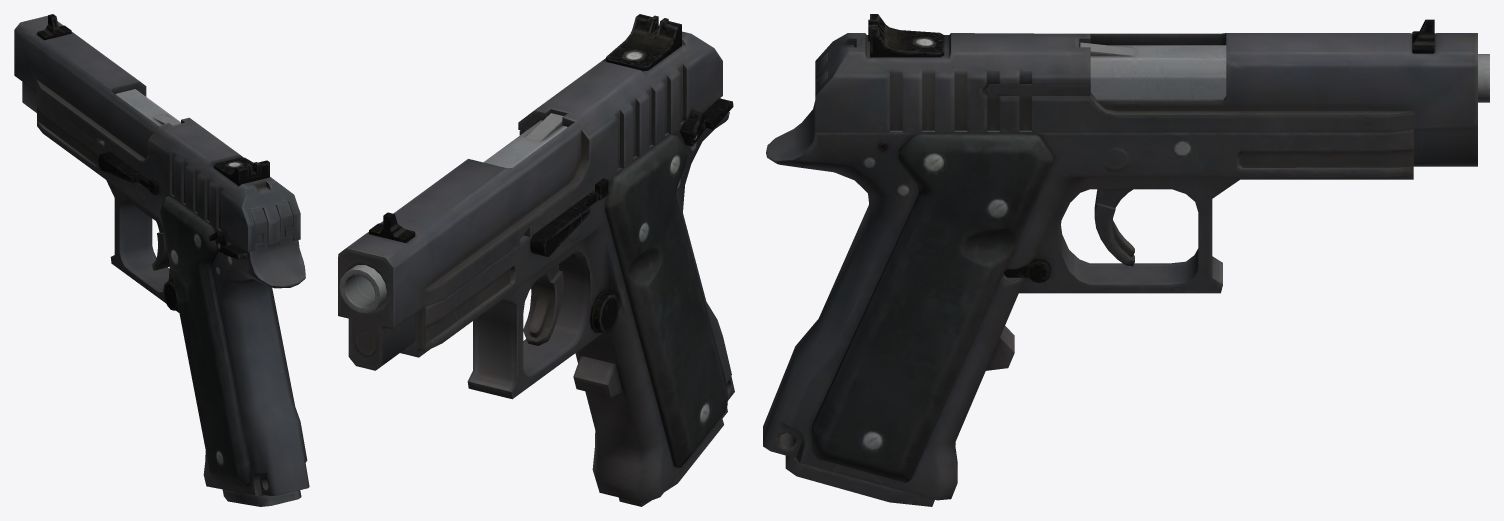
The picture shows the model from 3 angles, left to right: view 1: azimuth 30°, elevation 25°; view 2: azimuth 150°, elevation 25°; view 3: azimuth 270°, elevation 25°; orthographic projection. The views are drawn at different scales.
Visible parts, largest first — view 1: lower_pistol_0, slide_pistol_0, mag_pistol_0, trigger_pistol_0; view 2: lower_pistol_0, slide_pistol_0, trigger_pistol_0, mag_pistol_0; view 3: lower_pistol_0, slide_pistol_0, mag_pistol_0, trigger_pistol_0.
Boxes of the visible parts, x1=… form: lower_pistol_0: x1=37, y1=89, x2=309, y2=495; slide_pistol_0: x1=14, y1=14, x2=300, y2=252; mag_pistol_0: x1=222, y1=489, x2=301, y2=506; trigger_pistol_0: x1=152, y1=221, x2=169, y2=270; lower_pistol_0: x1=339, y1=98, x2=734, y2=503; slide_pistol_0: x1=338, y1=14, x2=722, y2=370; trigger_pistol_0: x1=523, y1=264, x2=563, y2=345; mag_pistol_0: x1=618, y1=419, x2=723, y2=506; lower_pistol_0: x1=763, y1=42, x2=1489, y2=500; slide_pistol_0: x1=815, y1=14, x2=1477, y2=166; mag_pistol_0: x1=785, y1=455, x2=934, y2=506; trigger_pistol_0: x1=1094, y1=189, x2=1134, y2=266.
Bounding box in the file's own units: 4.43 × 21.42 × 29.37.
Materials: 1 (1 with a texture image).
